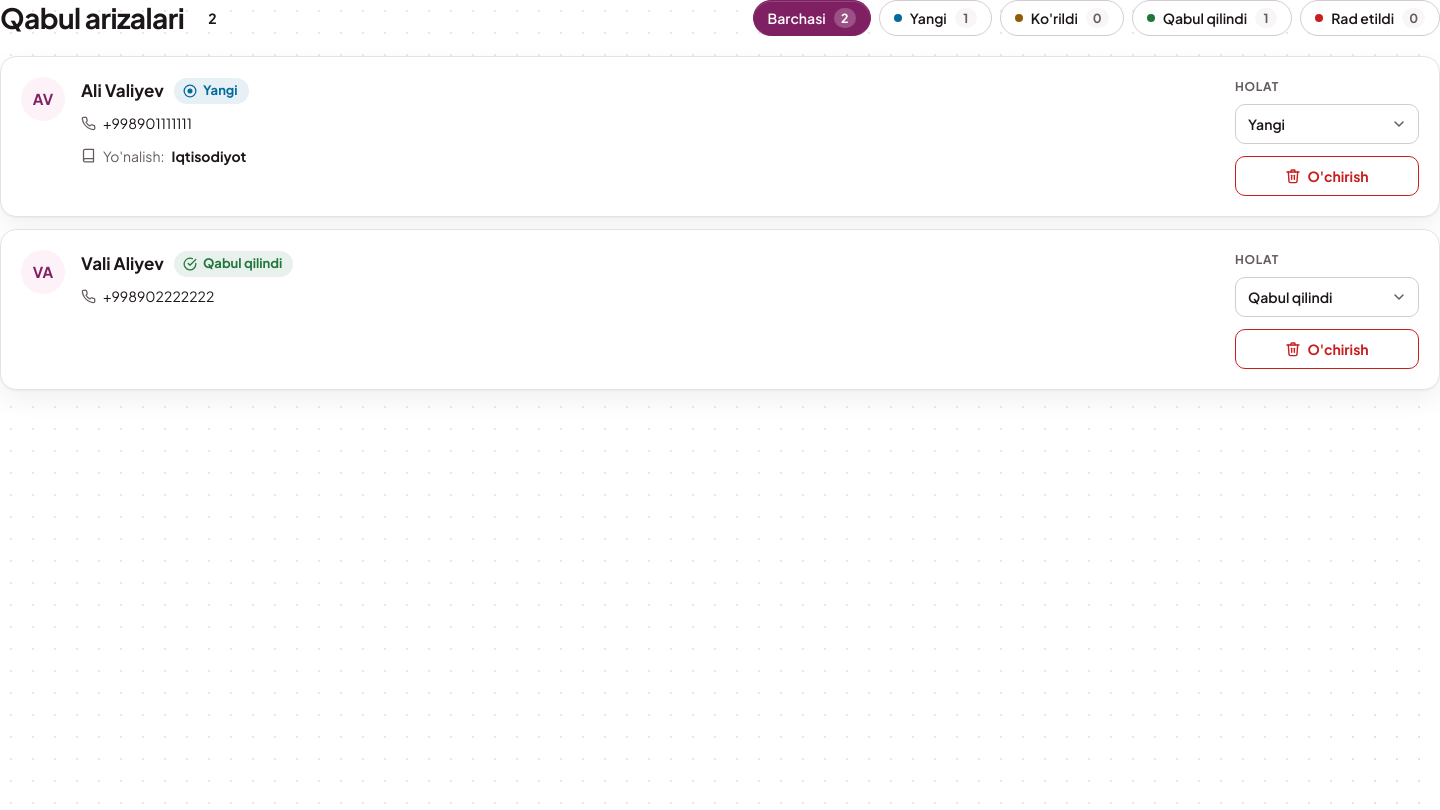
Test: ApplicationsAdmin › DELETE xato (500) — ariza ro'yxatda qoladi, dialog yopiladi va banner ko'rsatiladi
Expected: the text "Ali Valiyev" is shown, 81,77 -> 164,104
Click the button "O'chirish" in the row of "Iqtisodiyot" at point(1327, 176), box 1235,156 -> 1419,196
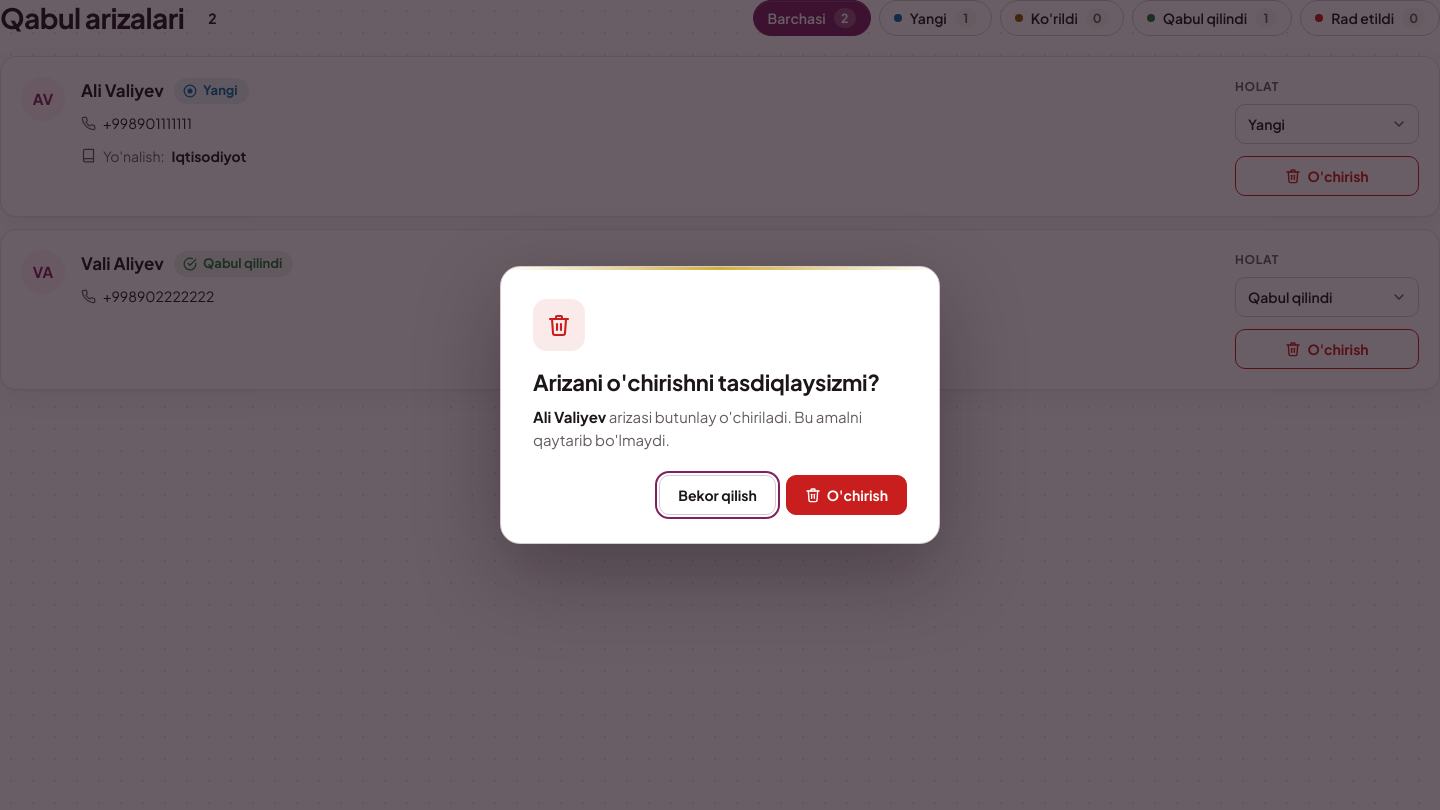
Click the button "O'chirish" at point(846, 495), box 786,475 -> 907,515
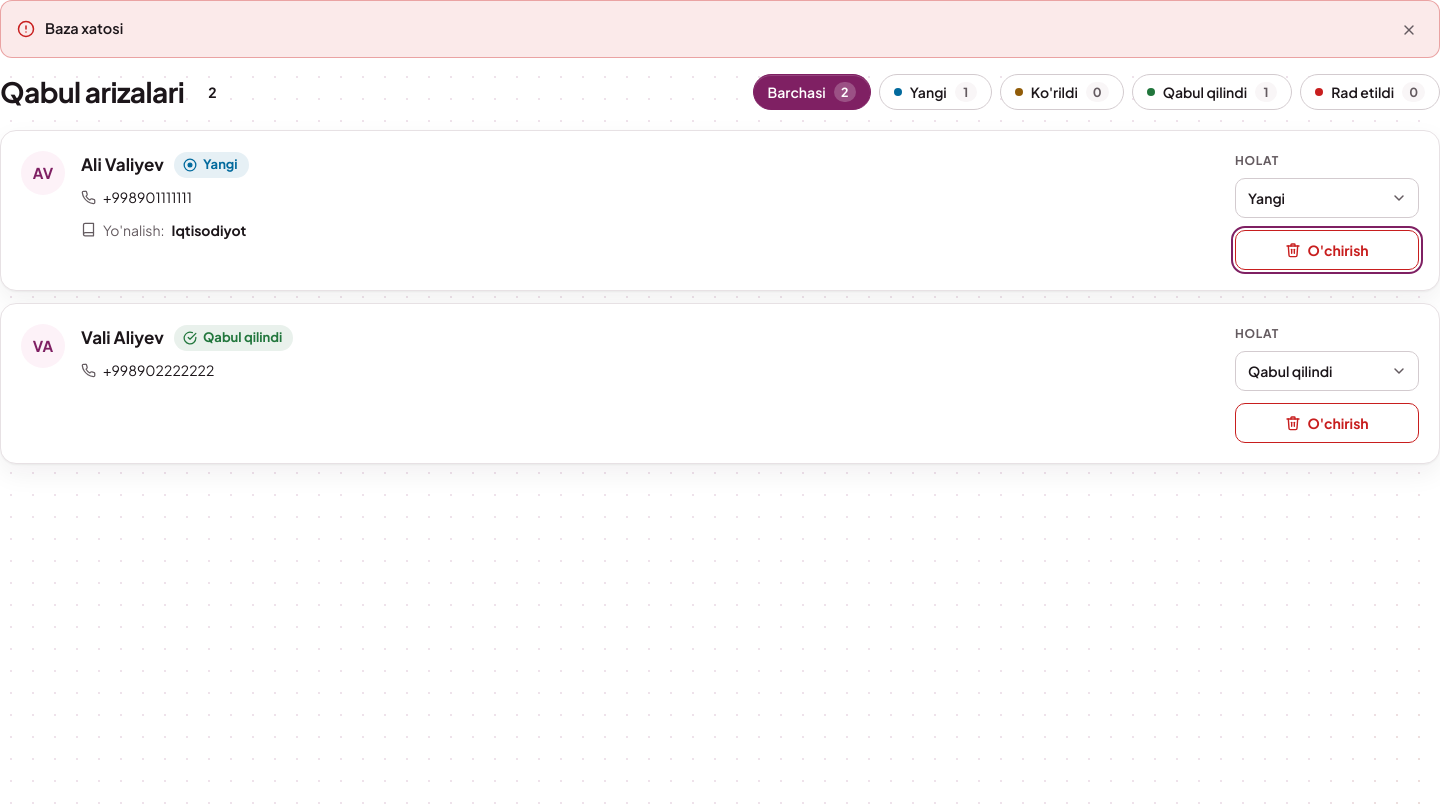
Expected: the text "Ali Valiyev" is shown, 81,151 -> 164,178
Now the message reads "Baza xatosi", box 45,20 -> 123,38
Now the dialog is gone
